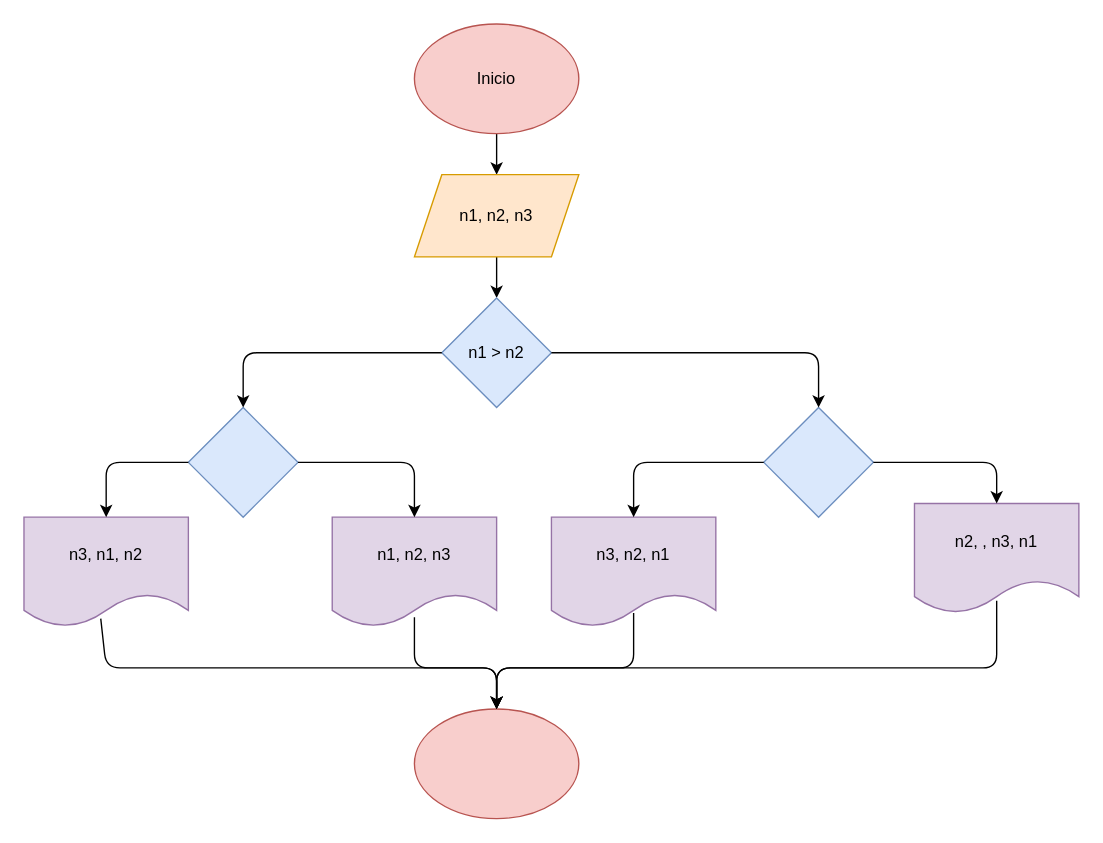
This 1103x843 diagram has some shape labels left out. Here are the shapes that lost their labels. From the top down, the centre of each, then its label:
the point at 242,461: n1 > n3
the point at 817,461: n2 > n3
the point at 496,763: Fin
